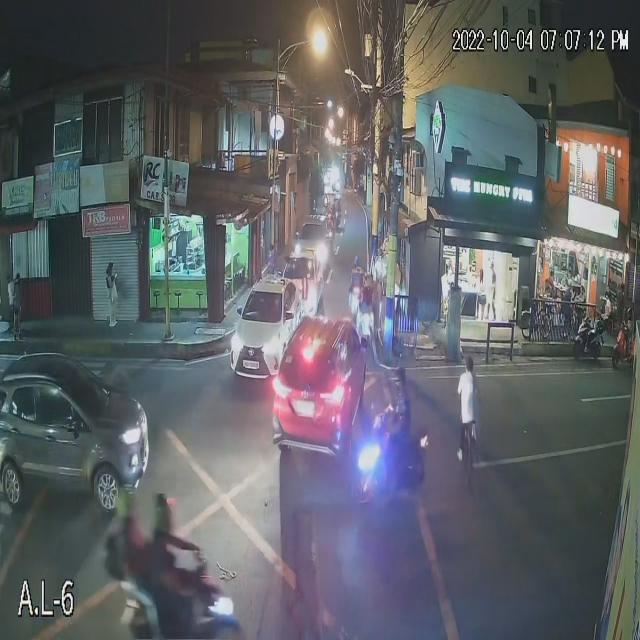helmet: (151, 489, 179, 529), (111, 479, 140, 516)
motorcycle: (135, 535, 244, 640), (347, 427, 429, 508), (574, 314, 609, 361), (610, 317, 639, 371)
rider: (152, 532, 208, 640), (107, 514, 156, 580), (387, 391, 413, 457)
